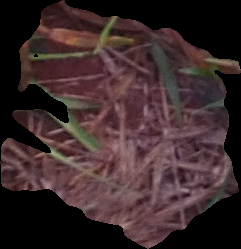soil: (1, 1, 241, 248)
